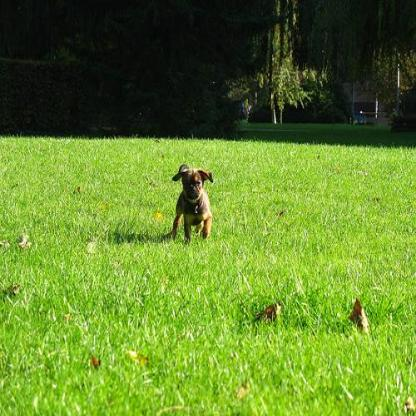Brabancon_griffon: (170, 163, 214, 243)
